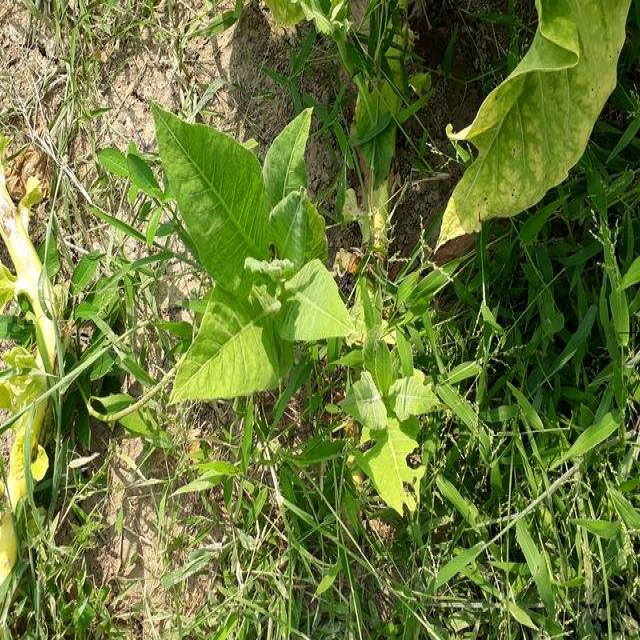crop: (150, 100, 357, 409)
